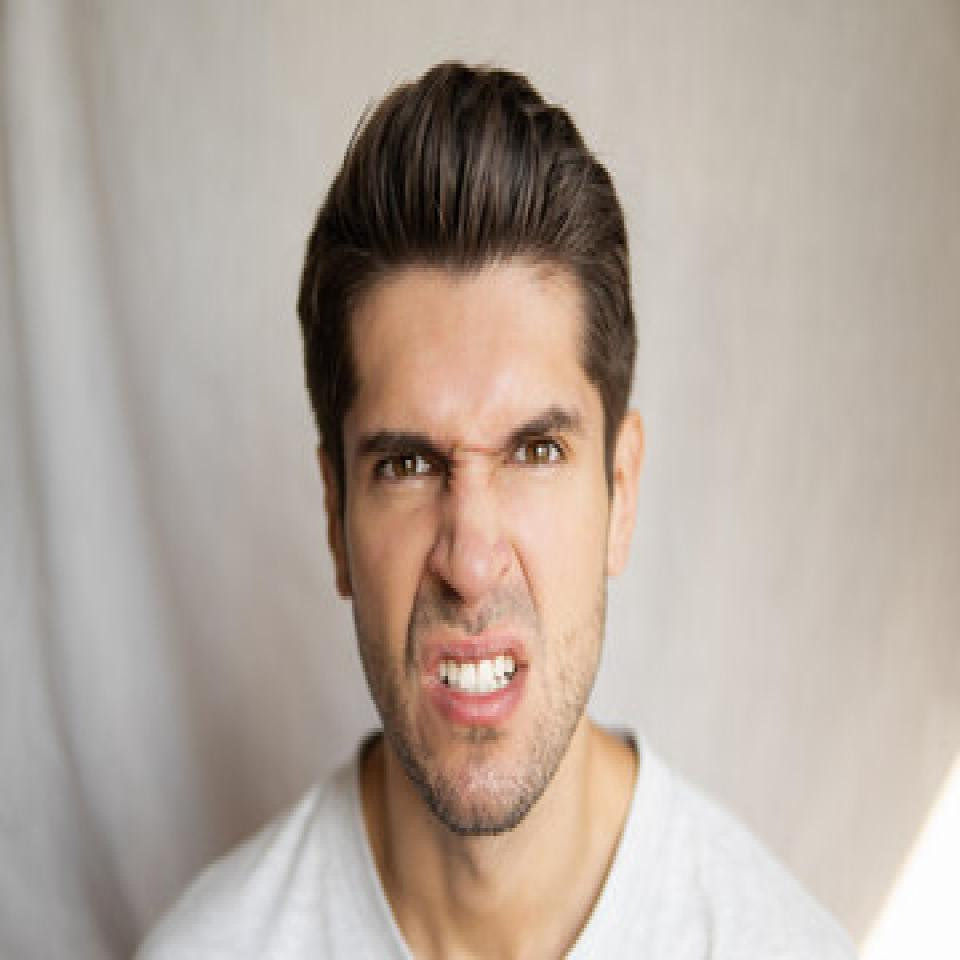Anger: (345, 280, 616, 839)
